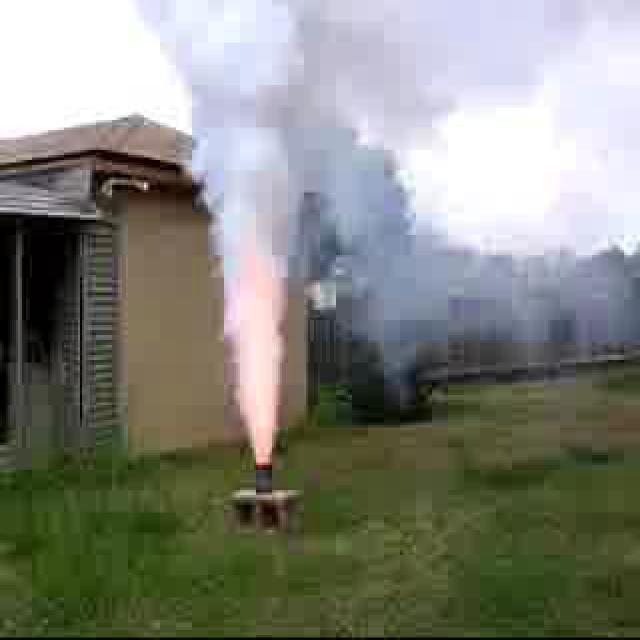Smoke: (188, 11, 306, 443)
